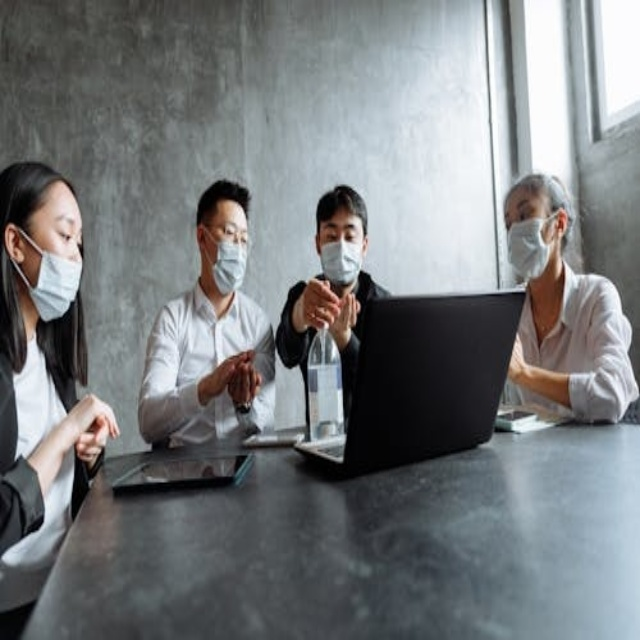Gafas: (203, 222, 251, 248)
Mascara: (12, 224, 82, 322), (507, 213, 560, 280), (203, 227, 249, 295), (320, 237, 362, 286)
Sin_gafas: (31, 206, 91, 254), (506, 190, 547, 223), (317, 219, 364, 246)
Sin_guantes: (71, 391, 119, 450), (301, 276, 346, 330), (227, 357, 258, 409), (507, 334, 532, 383)
